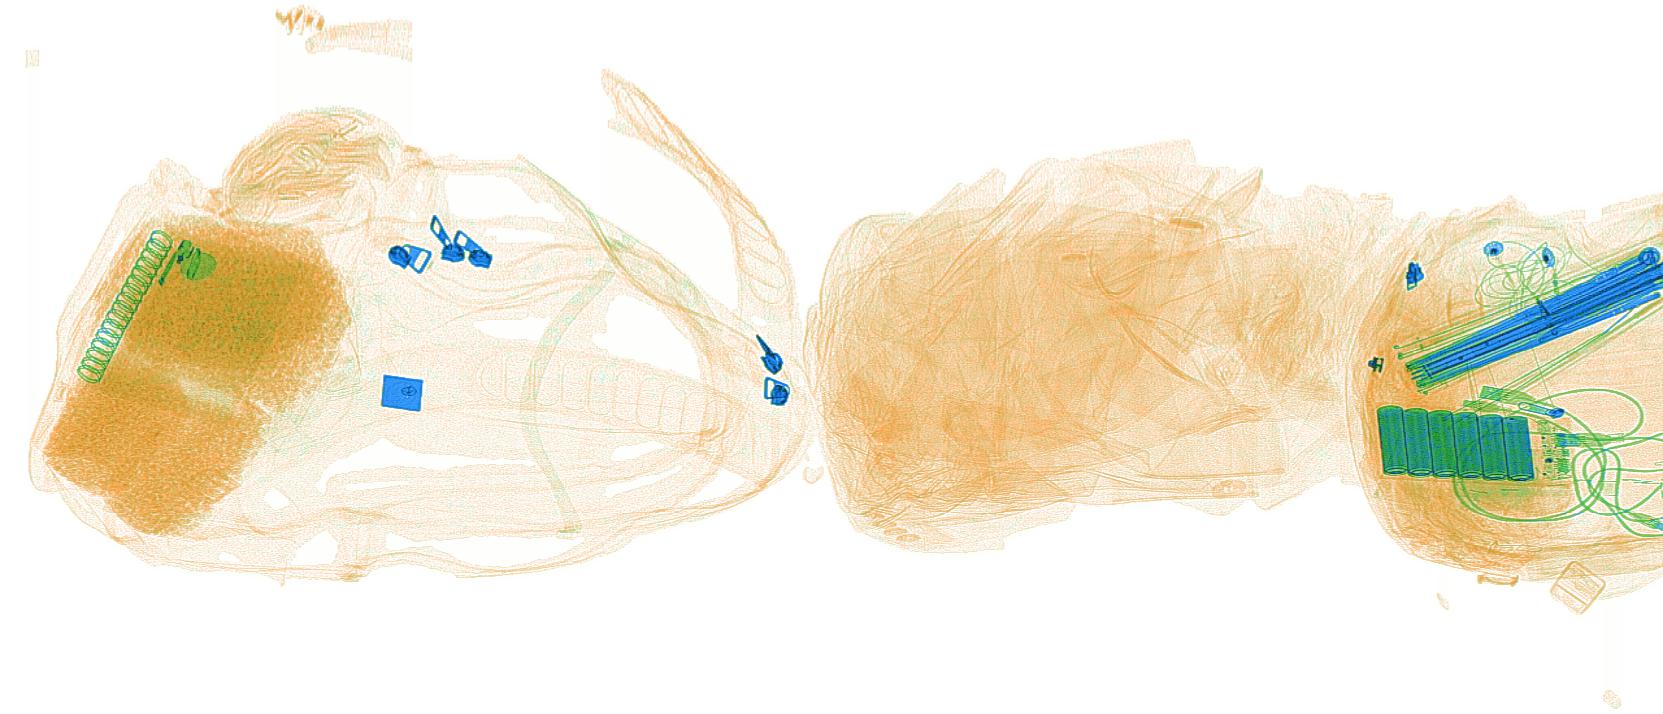battery: (1373, 399, 1572, 485)
